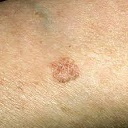Actinic: (49, 56, 80, 84)
